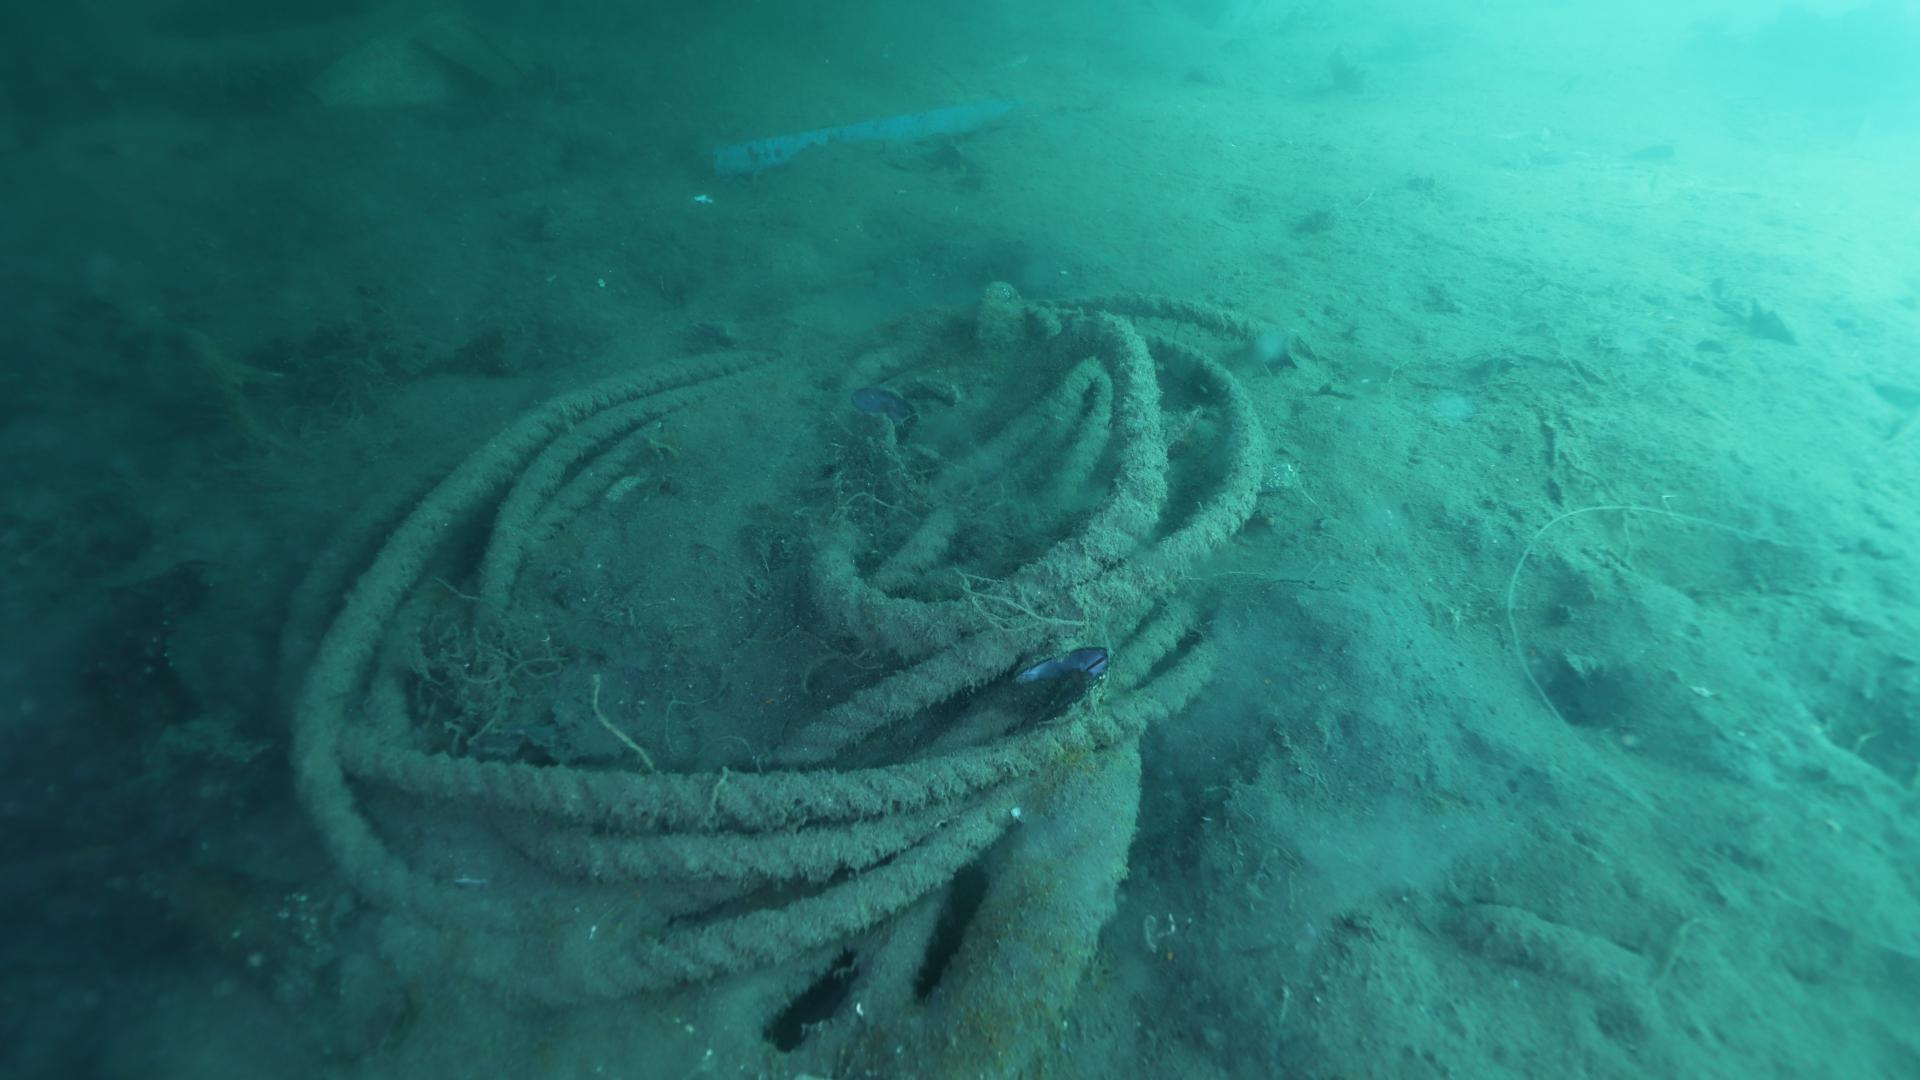bundle of ropes: (276, 282, 1270, 1004)
